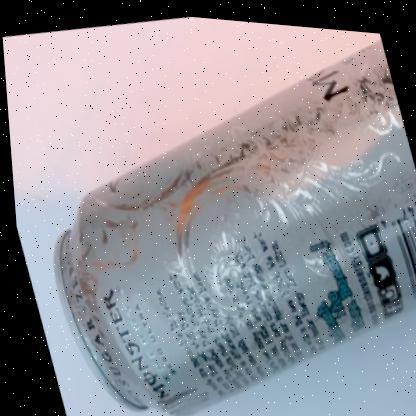Metal: (50, 32, 416, 414)
